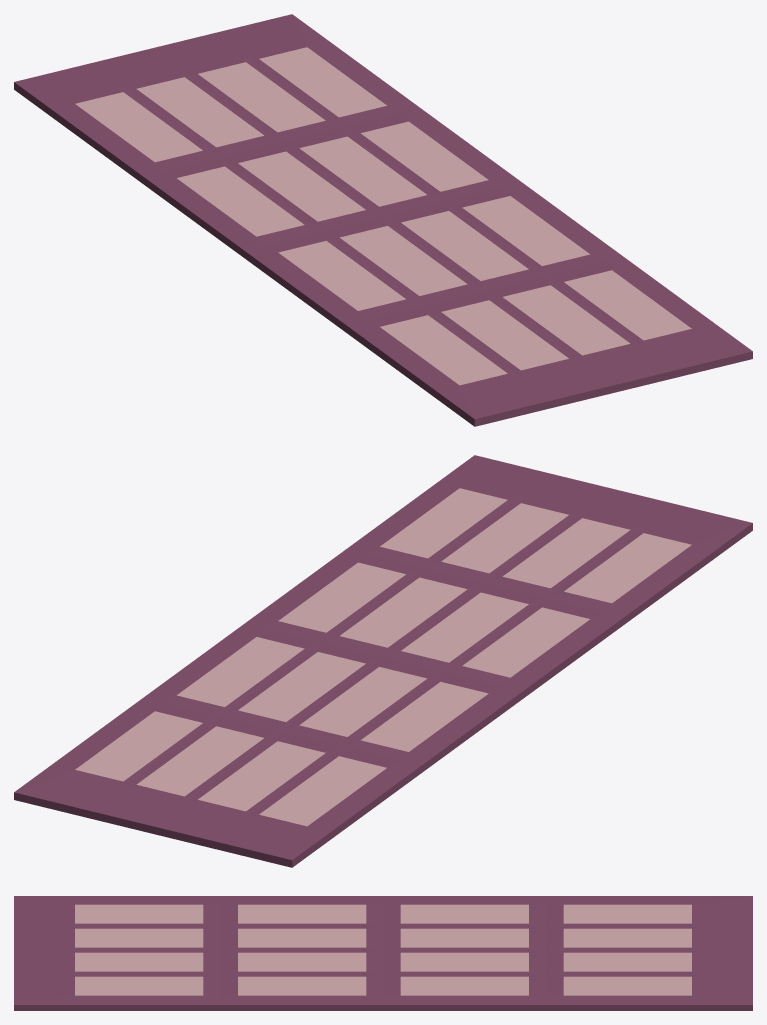
Rendered from RugBig_Material.fbx.
The picture shows the model from 3 angles, top to bottom: view 1: azimuth 30°, elevation 25°; view 2: azimuth 150°, elevation 25°; view 3: azimuth 270°, elevation 25°; orthographic projection. The views are drawn at different scales.
Parts seen in each view (by area): view 1: Rug; view 2: Rug; view 3: Rug.
Part boxes in pixels (box(x1,y1,x2,y2)): Rug: box(14, 14, 752, 426); Rug: box(14, 455, 752, 867); Rug: box(14, 896, 752, 1010).
Bounding box in the file's own units: 1.04 × 0.0287 × 3.
